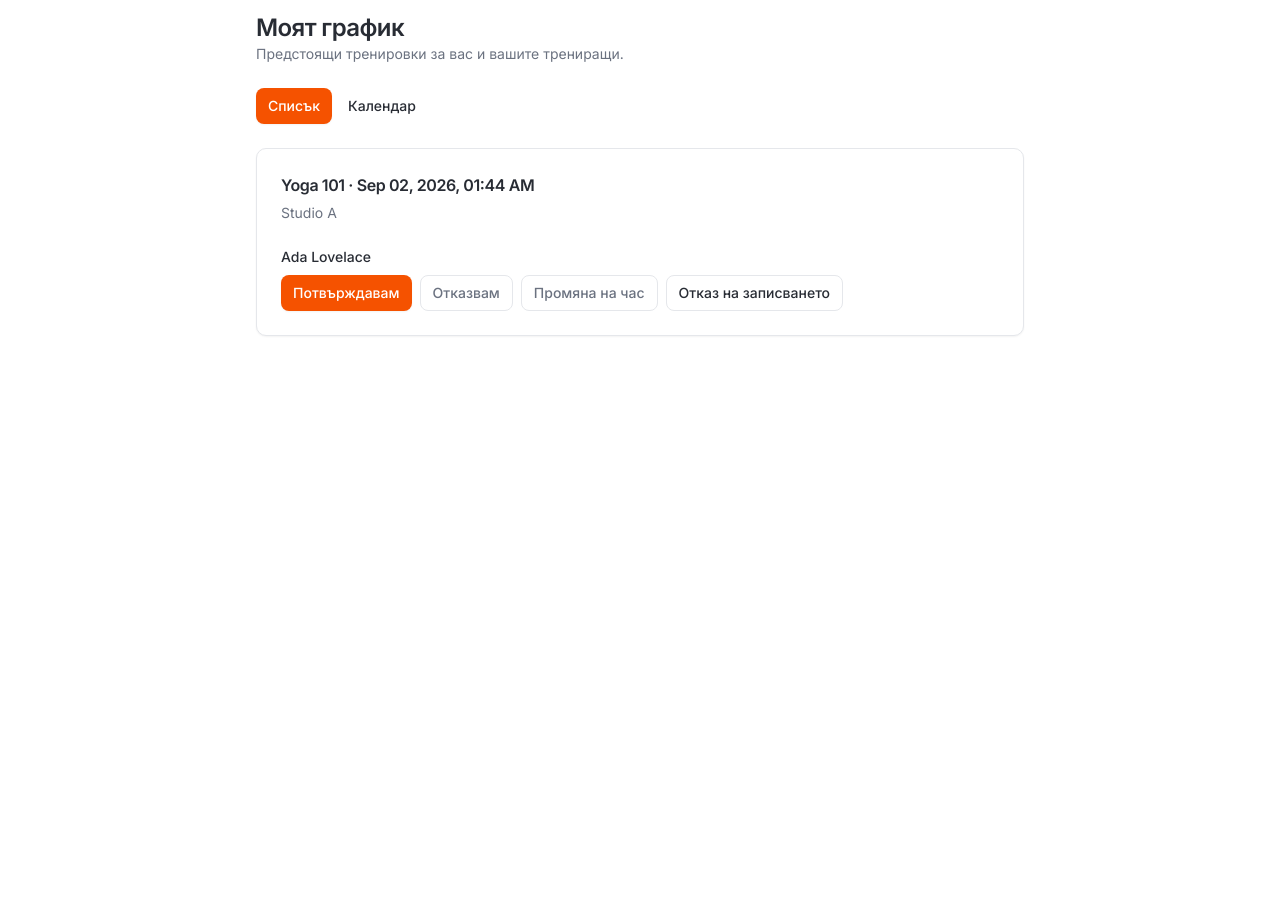
Test: Portal self-booking (TKT-0118) › cancels a booked row and the refetch drops it
Step 1. Click the button "Отказ на записването" → [754, 293], box [666, 275, 843, 311]
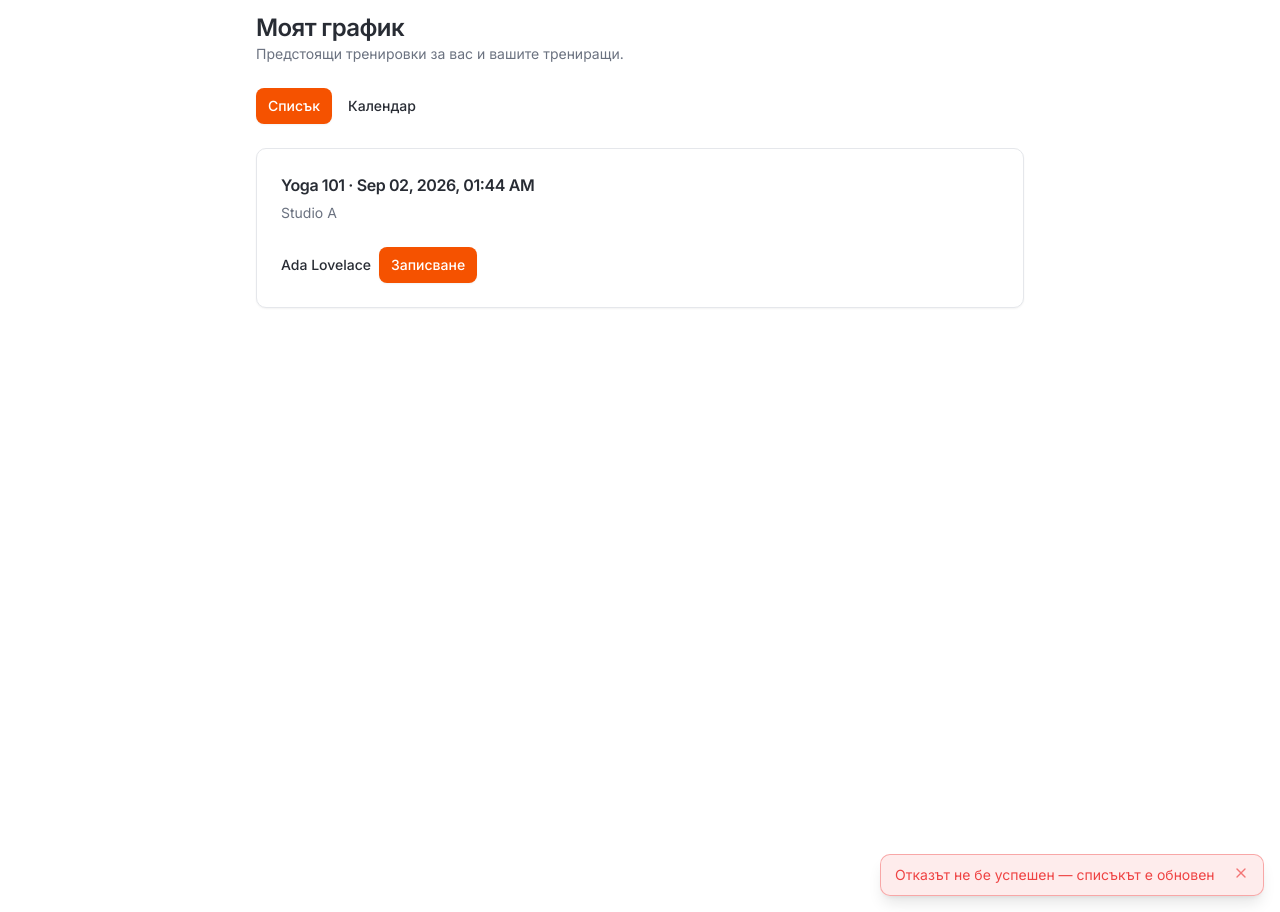
Check: the button "Записване" is shown, box [379, 247, 477, 283]
Check: the button "Отказ на записването" is gone
